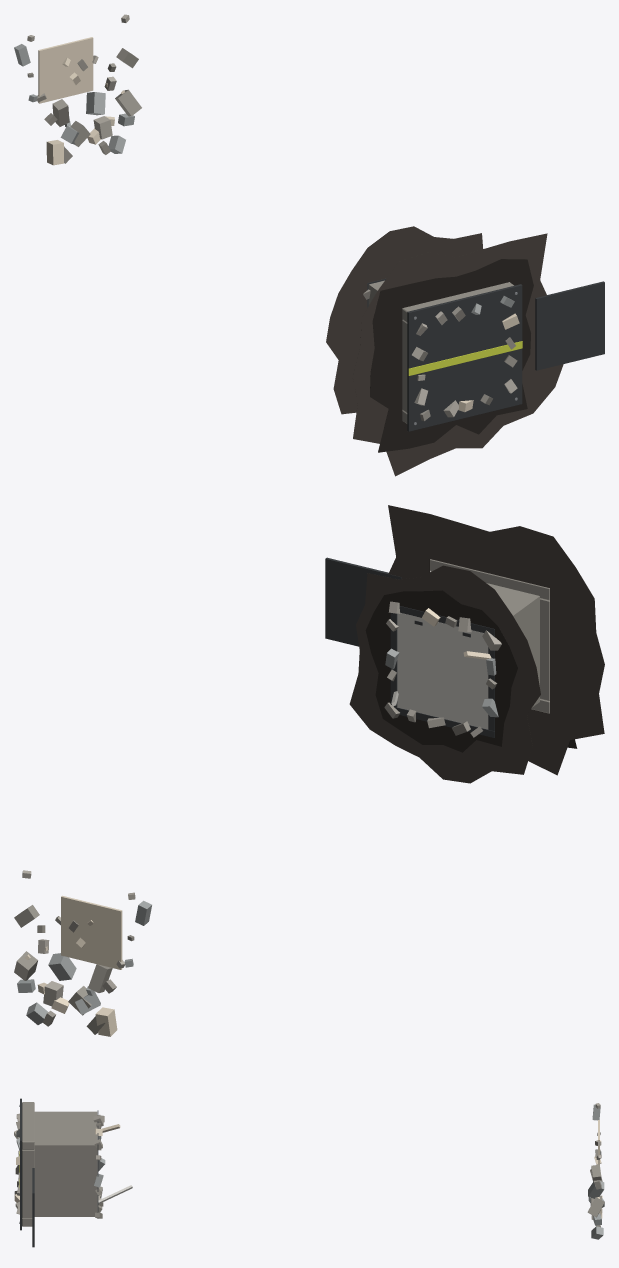
Rendered from prop_breach_ceiling_p100_d800.glb.
3 views of the same model, one above another, from view 1: azimuth 30°, elevation 25°; view 2: azimuth 150°, elevation 25°; view 3: azimuth 270°, elevation 25° (orthographic). The views are drawn at different scales.
Parts seen in each view (by area): view 1: Scorch, BlownFrame, Seal, Curb; view 2: Scorch, BlownFrame, Seal, Curb; view 3: BlownFrame, Curb, Seal.
Part boxes in pixels (x1,y1,x2,y2): Scorch: (326, 226, 563, 476); BlownFrame: (14, 14, 604, 421); Seal: (367, 278, 522, 431); Curb: (402, 282, 513, 423); Scorch: (349, 505, 604, 783); BlownFrame: (14, 557, 539, 1036); Seal: (390, 606, 494, 737); Curb: (430, 559, 549, 713); BlownFrame: (14, 1103, 604, 1247); Curb: (22, 1102, 34, 1226); Seal: (19, 1098, 98, 1230).
Size of what is drawn, in the model's own units: 3.49 by 2.86 by 9.41.
